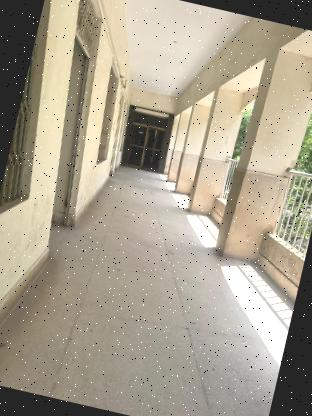door: (14, 0, 137, 259), (114, 98, 181, 179)
